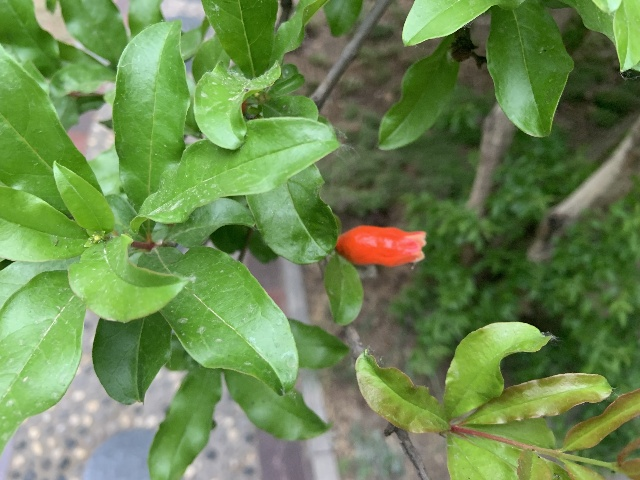flower: (335, 224, 427, 267)
